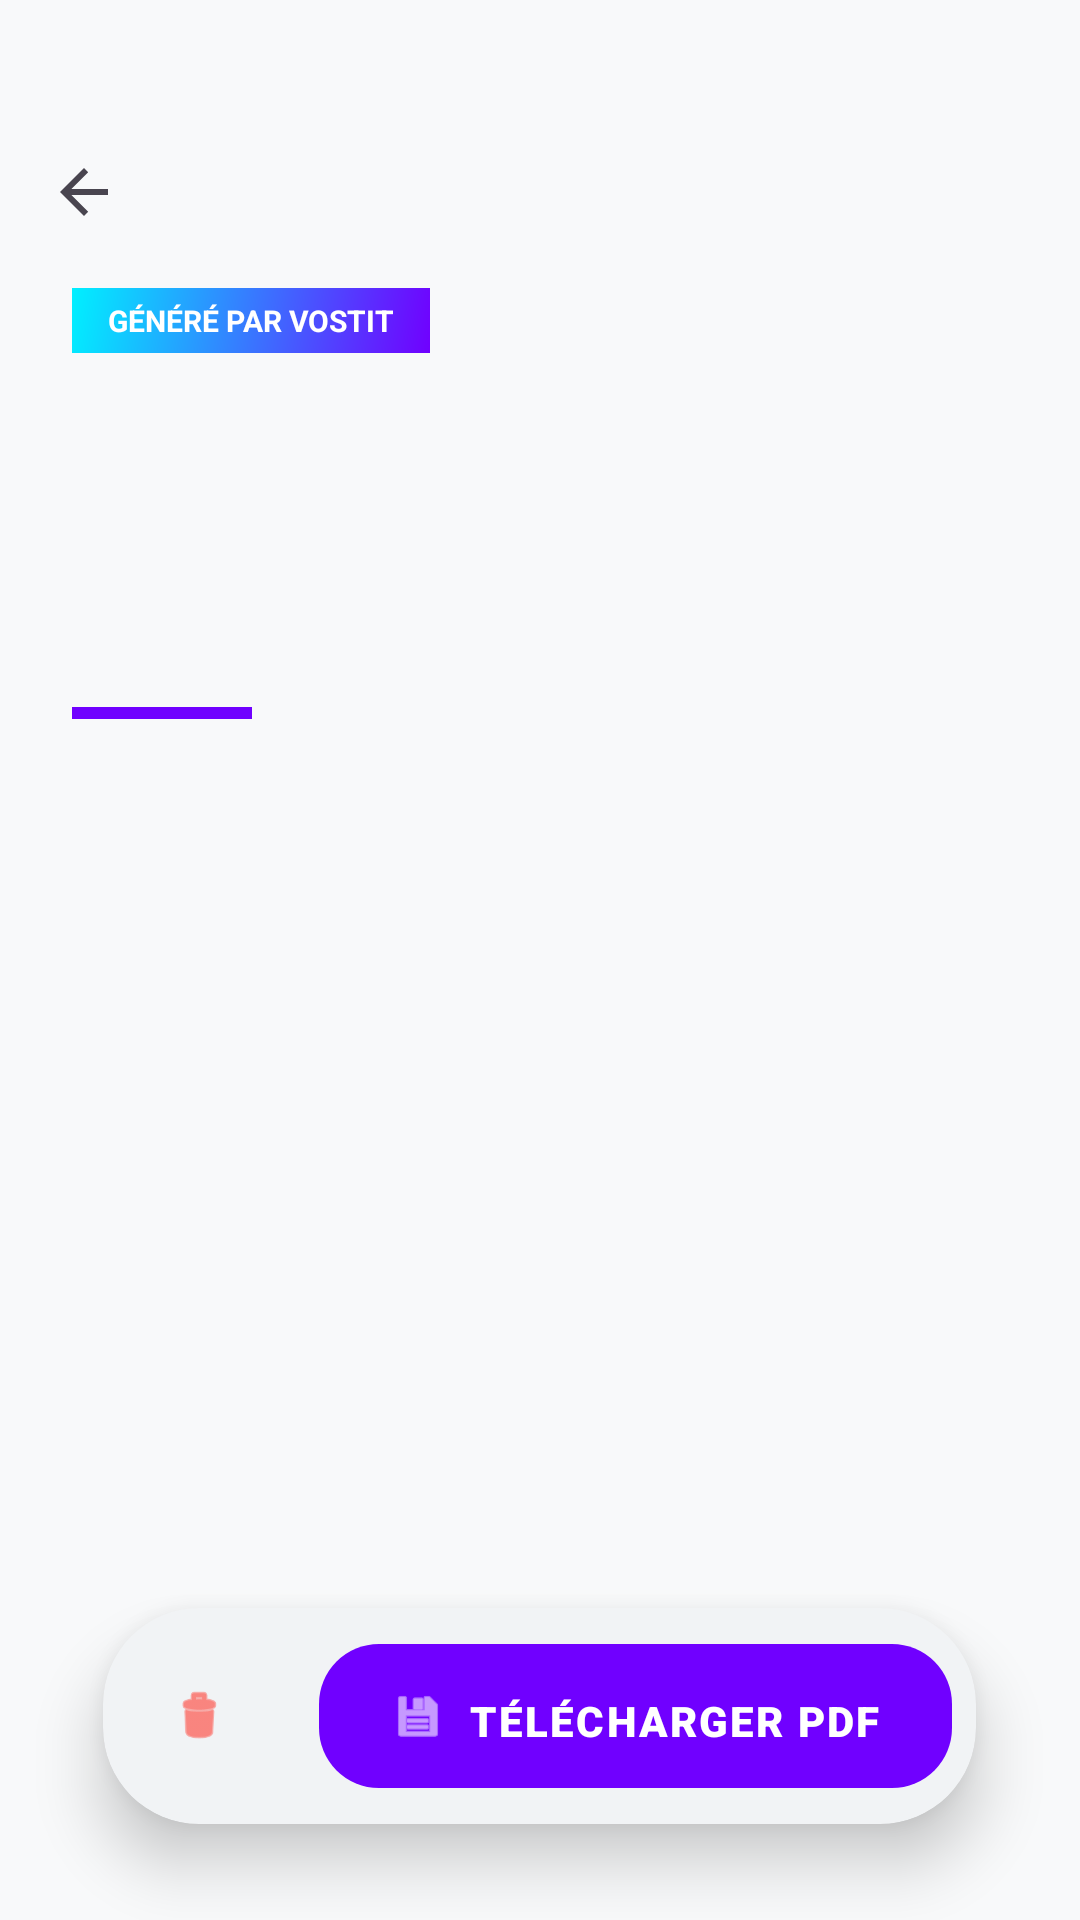

Where icons sit on this 1080*1920 app screen, as (x1, y1, x2, y2):
delete: (182, 1692, 216, 1739)
